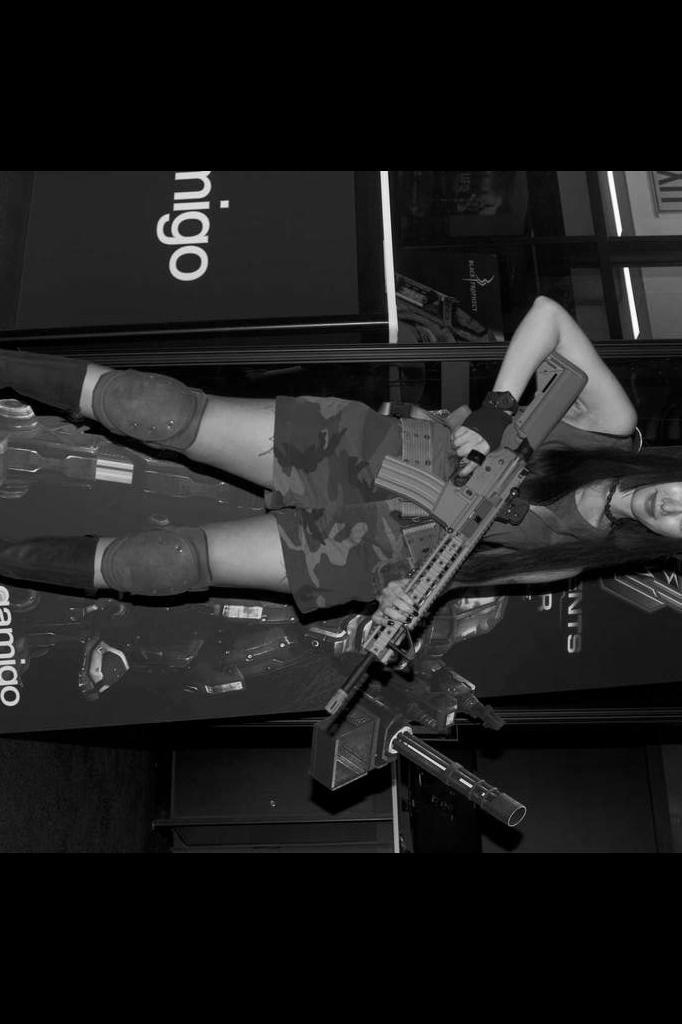gun: (328, 355, 587, 718)
